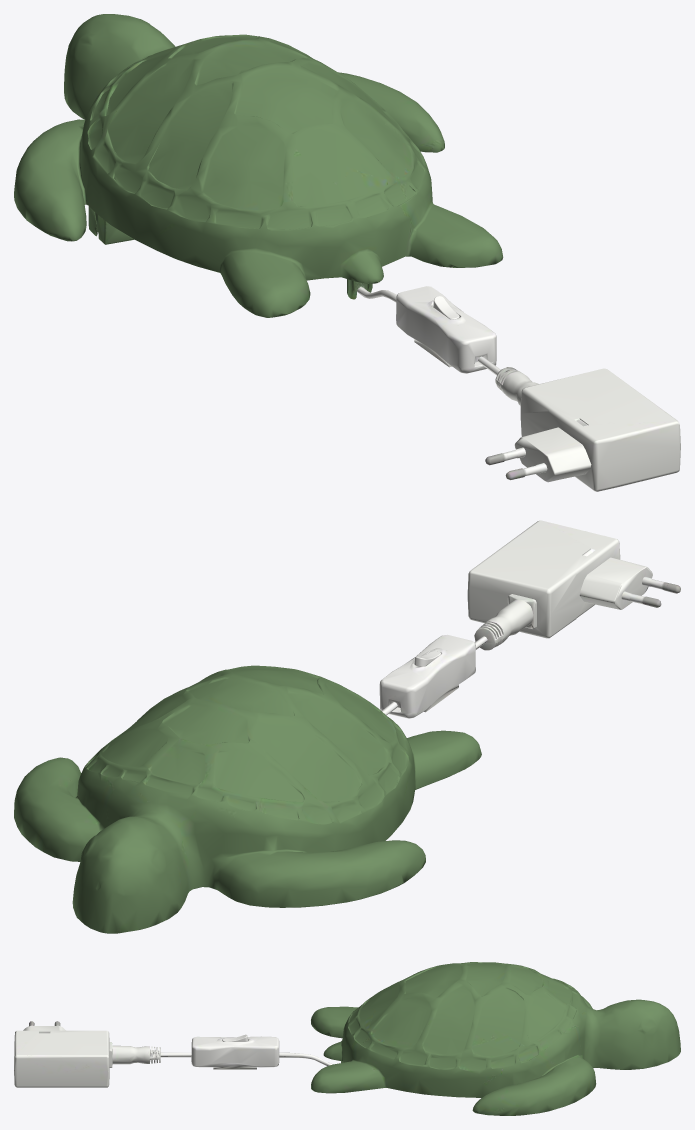
Rendered from blavingad_lampa_scienna_led_20526563.glb.
3 views of the same model, one above another, from view 1: azimuth 30°, elevation 25°; view 2: azimuth 150°, elevation 25°; view 3: azimuth 270°, elevation 25° (orthographic). The views are drawn at different scales.
Visible parts, largest first — view 1: blavingad_lampa_scienna_led_20526563; view 2: blavingad_lampa_scienna_led_20526563; view 3: blavingad_lampa_scienna_led_20526563.
Boxes of the visible parts, x1,y1,x2,y2 form: blavingad_lampa_scienna_led_20526563: (14,14,680,491); blavingad_lampa_scienna_led_20526563: (14,520,680,933); blavingad_lampa_scienna_led_20526563: (14,962,680,1115).
Size of the model in its own units: 0.1984 by 0.0772 by 0.4594.
2 materials, 2 textured.
